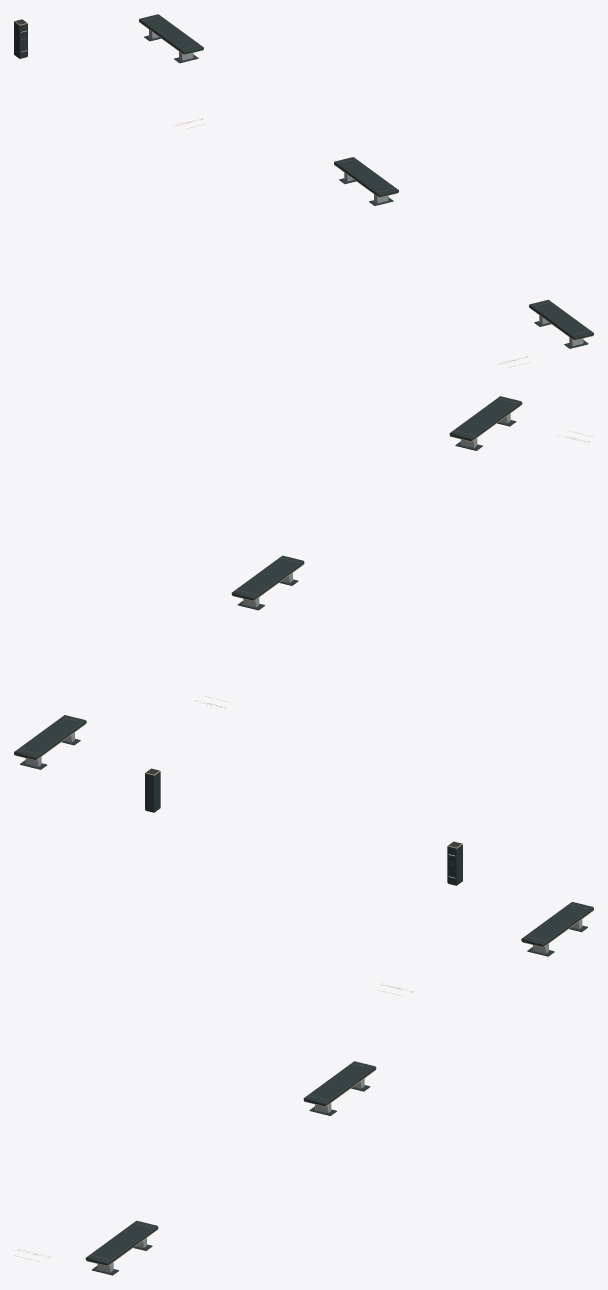
The model's file is A-atelier-east.glb.
3 renders of one model, top to bottom at view 1: azimuth 30°, elevation 25°; view 2: azimuth 150°, elevation 25°; view 3: azimuth 330°, elevation 25°, orthographic. The views are drawn at different scales.
Visible parts, largest first — view 1: A-atelier-east; view 2: A-atelier-east; view 3: A-atelier-east.
Boxes of the visible parts, <box> form: A-atelier-east: <box>14,14,593,367</box>; A-atelier-east: <box>14,396,593,812</box>; A-atelier-east: <box>14,841,593,1275</box>.
Bounding box in the file's own units: 4.82 × 1.16 × 27.38.
